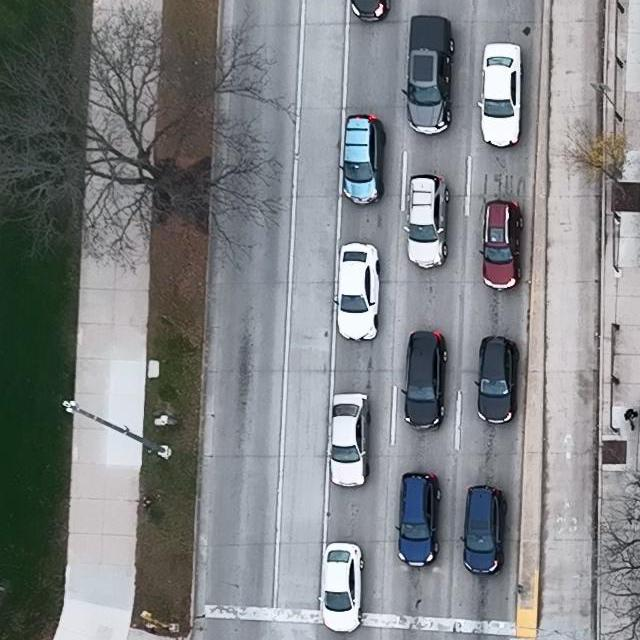car: (401, 15, 455, 136), (332, 242, 381, 342), (400, 329, 448, 431), (477, 43, 523, 148), (402, 174, 450, 270), (459, 484, 508, 577), (338, 114, 386, 208), (478, 199, 525, 291), (318, 542, 365, 633), (396, 473, 441, 567), (327, 392, 370, 489), (474, 337, 520, 425), (350, 0, 392, 24)
